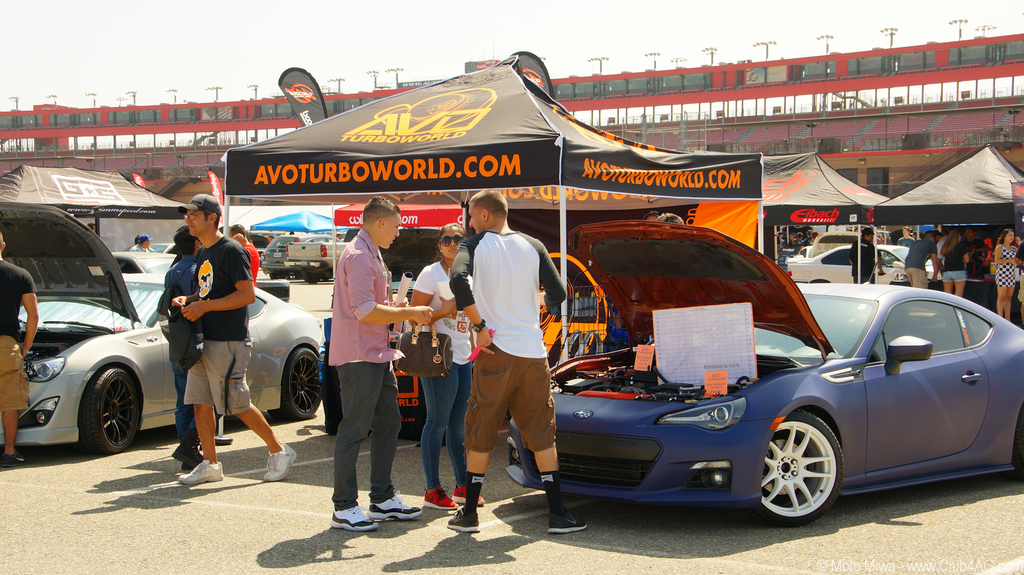Car: (500, 227, 1016, 523), (0, 202, 325, 447)
